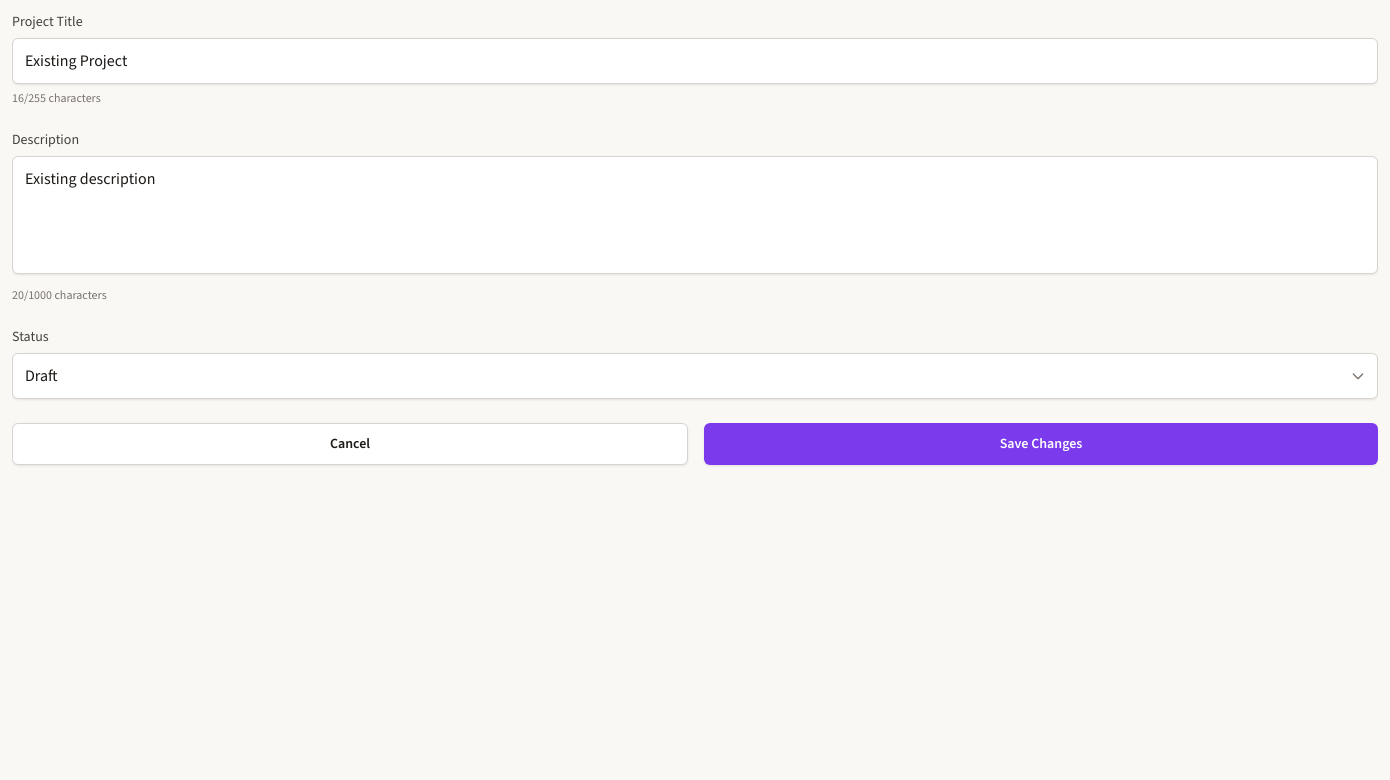
it: EditProjectForm › Form Submission › should handle network errors gracefully
The width and height of the screenshot is (1390, 780).
Click the button "Save Changes": (1041, 444) top-left (704, 423), bottom-right (1378, 465)
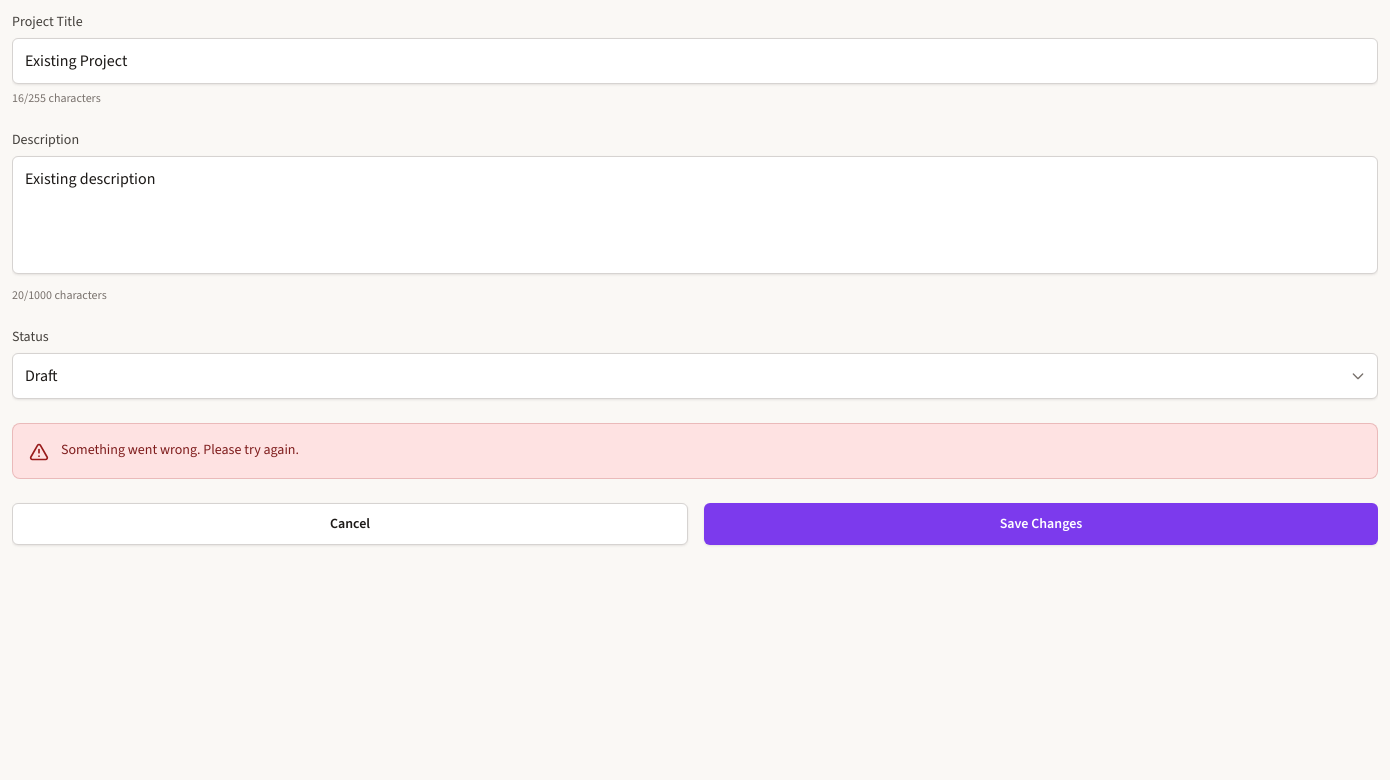
Expected: the message shows "Something went wrong", top-left (61, 440), bottom-right (299, 459)
